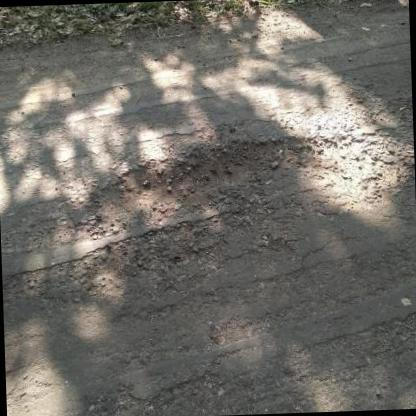pothole: (89, 131, 333, 230)
